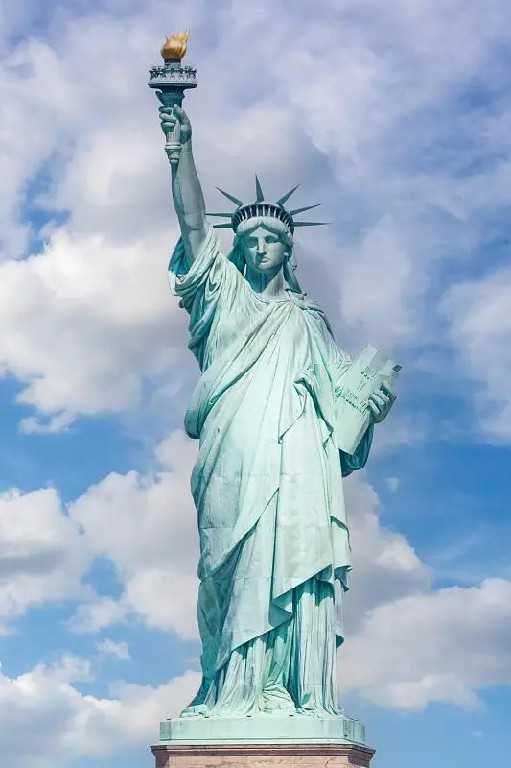SL: (149, 29, 402, 768)
